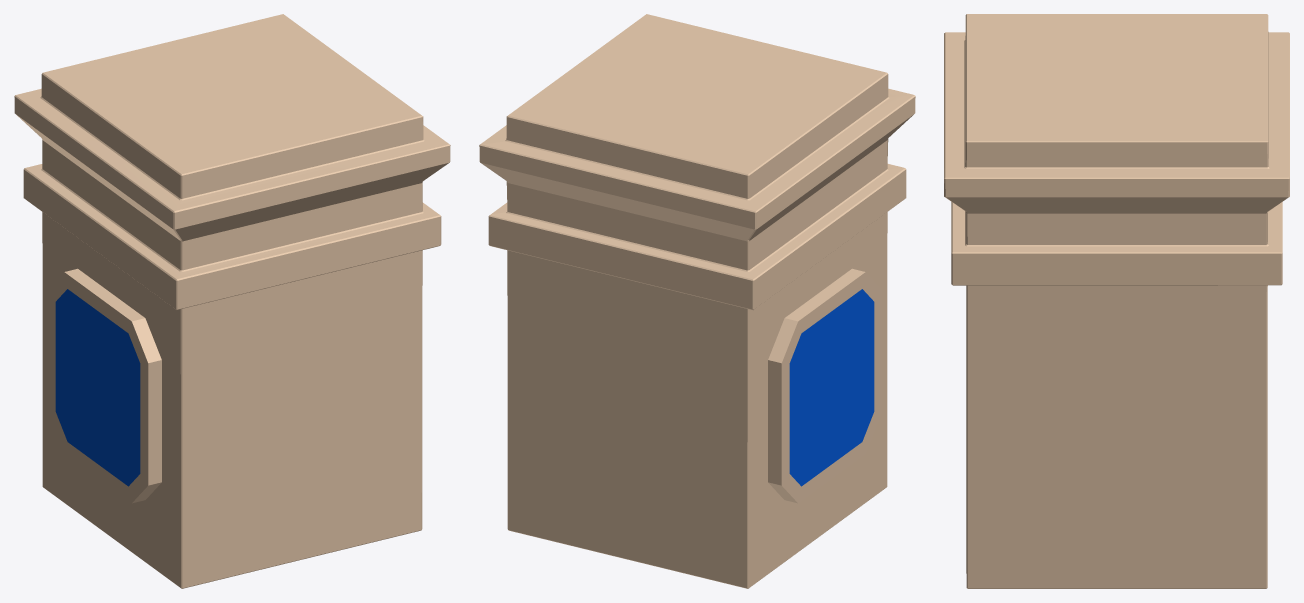
Rendered from P_Chest_Support.fbx.
The picture shows the model from 3 angles, left to right: view 1: azimuth 30°, elevation 25°; view 2: azimuth 150°, elevation 25°; view 3: azimuth 270°, elevation 25°; orthographic projection. The views are drawn at different scales.
Visible parts, largest first — view 1: Box.005; view 2: Box.005; view 3: Box.005.
Boxes of the visible parts, left/top/right/bottom form: Box.005: left=14, top=14, right=450, bottom=588; Box.005: left=479, top=14, right=915, bottom=588; Box.005: left=944, top=14, right=1289, bottom=588.
Size of the model in its own units: 84.38 by 121 by 84.38.
